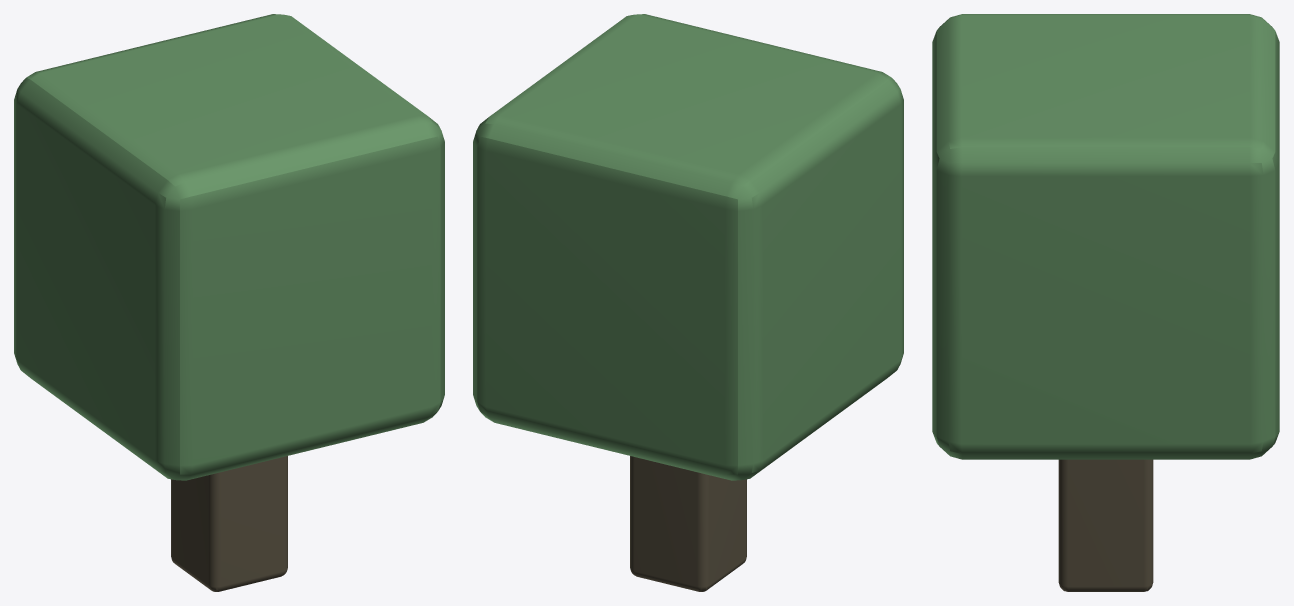
Rendered from Tree_003.fbx.
3 renders of one model, left to right at view 1: azimuth 30°, elevation 25°; view 2: azimuth 150°, elevation 25°; view 3: azimuth 270°, elevation 25°, orthographic. The views are drawn at different scales.
Visible parts, largest first — view 1: Tree_003; view 2: Tree_003; view 3: Tree_003.
Part boxes in pixels (<box>): Tree_003: <box>14,14,444,591</box>; Tree_003: <box>473,14,903,591</box>; Tree_003: <box>932,14,1279,591</box>.
Size of the model in its own units: 0.899 by 1.42 by 0.899.
